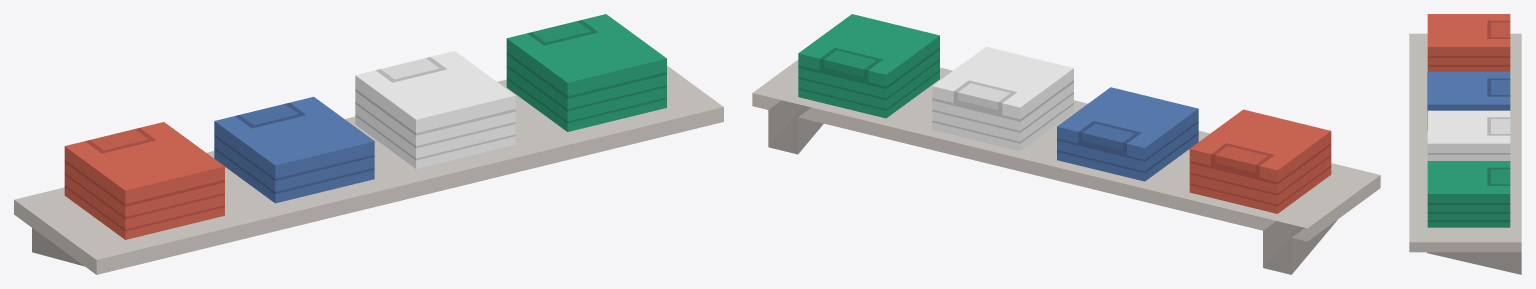
File: ShirtShelf.glb
The picture shows the model from 3 angles, left to right: view 1: azimuth 30°, elevation 25°; view 2: azimuth 150°, elevation 25°; view 3: azimuth 270°, elevation 25°; orthographic projection. The views are drawn at different scales.
Parts seen in each view (by area): view 1: SI_Prop_Shirt_Shelf_01; view 2: SI_Prop_Shirt_Shelf_01; view 3: SI_Prop_Shirt_Shelf_01.
Part boxes in pixels (x1,y1,x2,y2): SI_Prop_Shirt_Shelf_01: (14,14,723,274); SI_Prop_Shirt_Shelf_01: (752,14,1380,274); SI_Prop_Shirt_Shelf_01: (1409,14,1521,274).
Size of the model in its own units: 0.0388 by 0.00627 by 0.00883.
Materials: 1 (1 with a texture image).
